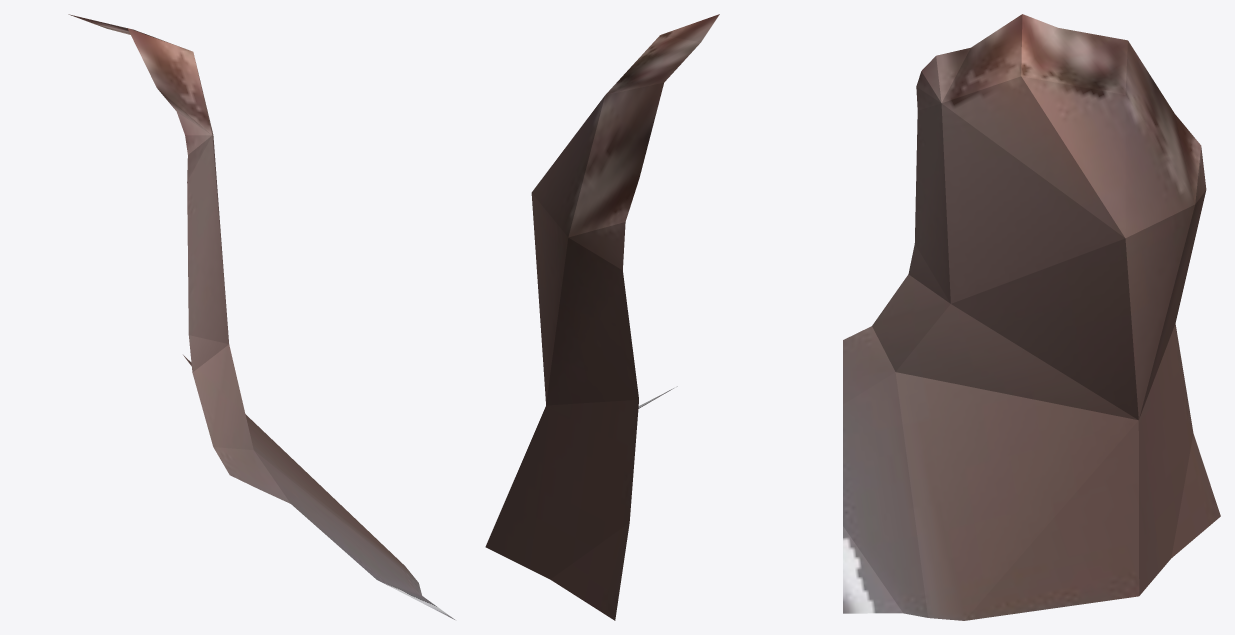
3 renders of one model, left to right at view 1: azimuth 30°, elevation 25°; view 2: azimuth 150°, elevation 25°; view 3: azimuth 270°, elevation 25°, orthographic. The views are drawn at different scales.
Size of the model in its own units: 0.4092 by 0.9167 by 0.6248.
Materials: 1 (1 with a texture image).
